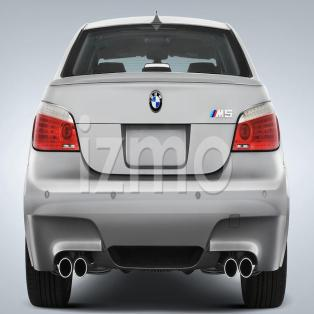Auto: (24, 15, 290, 305)
